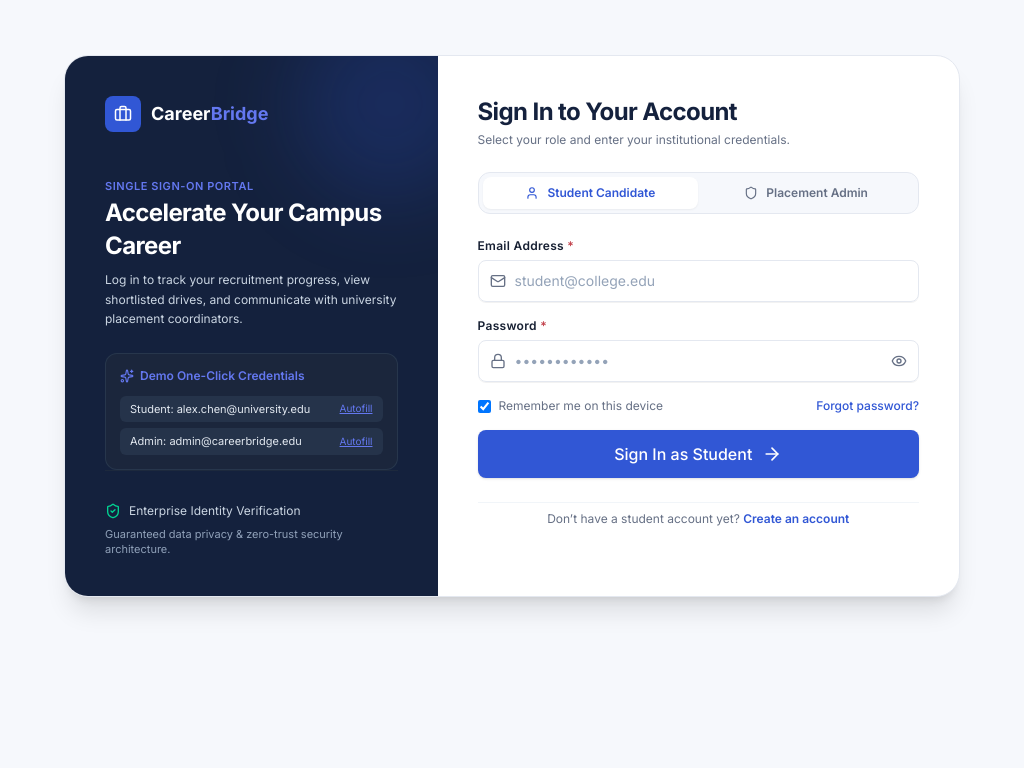
Authentication UI & Validation Tests › displays validation error when submitting empty login form
Step 1. Click the button "Sign In as Student" → (698, 454), box [478,430,919,478]
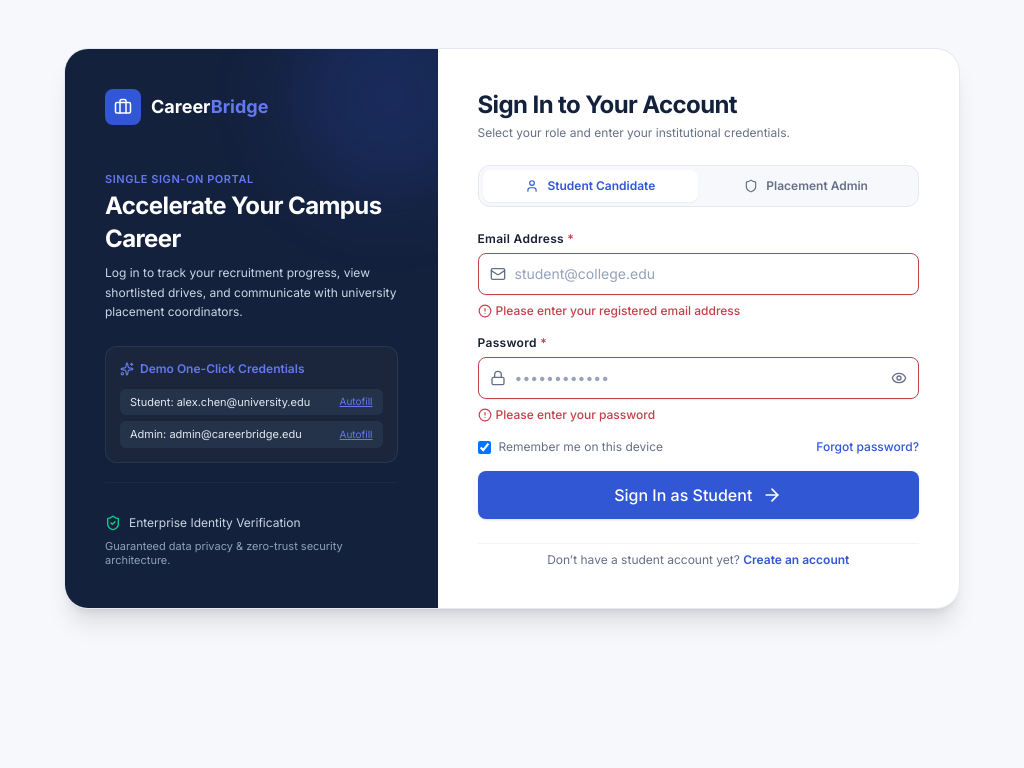
Check: the text "Please enter your registered email address" is shown, box [496,303,740,319]
